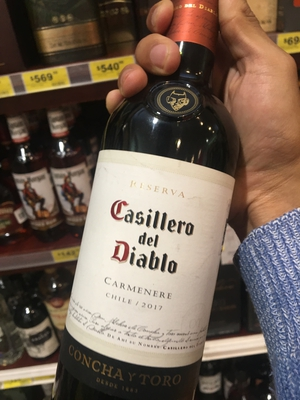casillero del diablo carmenere: (69, 13, 254, 400)
